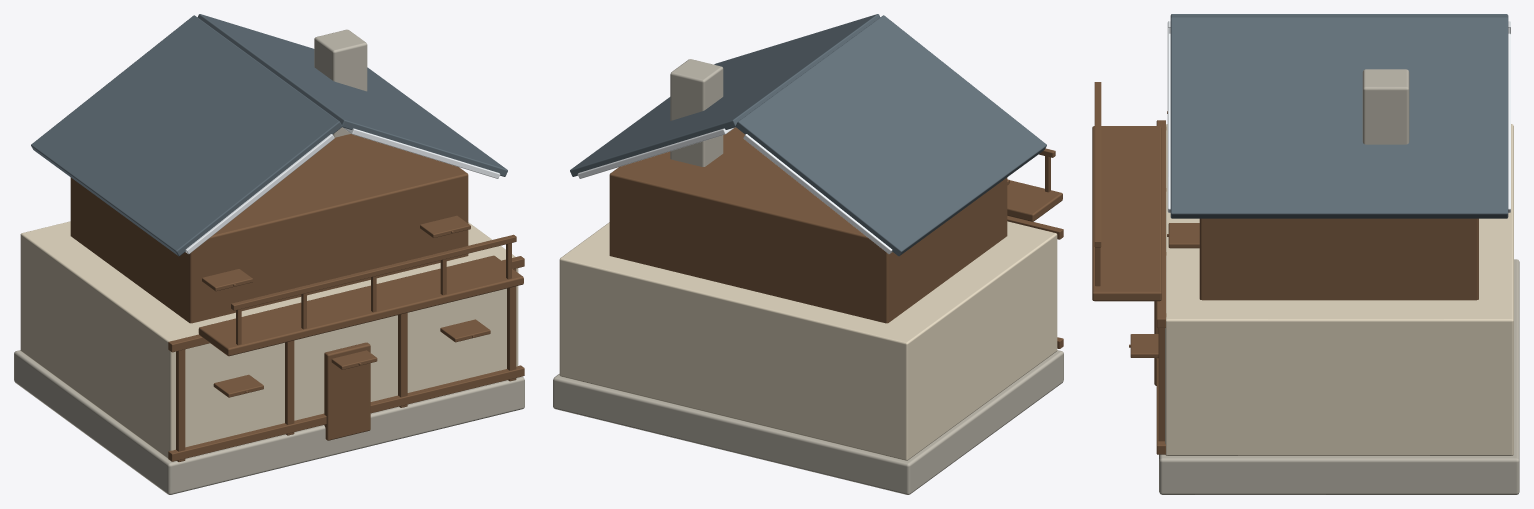
The model's file is Building_Alpine_Chalet_01.fbx.
3 views of the same model, side by side, from view 1: azimuth 30°, elevation 25°; view 2: azimuth 150°, elevation 25°; view 3: azimuth 270°, elevation 25° (orthographic). The views are drawn at different scales.
Parts seen in each view (by area): view 1: Chalet_LowerWalls, Chalet_Roof_L, Chalet_UpperWalls, Chalet_StoneBase, Chalet_Roof_R, Chalet_Balcony, Chalet_Door, Chalet_Beam_0.85, Chalet_Chimney, Chalet_BalconyRail, Chalet_SnowRoofL, Chalet_SnowRoofR (+10 smaller); view 2: Chalet_LowerWalls, Chalet_UpperWalls, Chalet_Roof_L, Chalet_StoneBase, Chalet_Roof_R, Chalet_Chimney, Chalet_Balcony, Chalet_SnowRoofL, Chalet_SnowRoofR; view 3: Chalet_Roof_R, Chalet_LowerWalls, Chalet_UpperWalls, Chalet_StoneBase, Chalet_Balcony, Chalet_Chimney, Chalet_Roof_L, Chalet_BalconyRail, Chalet_SnowRoofR, Chalet_Beam_3.25, Chalet_WindowUpper_2.5_Frame, Chalet_Timber_3.8 (+1 smaller).
Boxes of the visible parts, x1=… form: Chalet_LowerWalls: x1=20, y1=221, x2=518, y2=458; Chalet_Roof_L: x1=31, y1=15, x2=342, y2=256; Chalet_UpperWalls: x1=70, y1=134, x2=468, y2=323; Chalet_StoneBase: x1=14, y1=350, x2=524, y2=494; Chalet_Roof_R: x1=197, y1=14, x2=507, y2=176; Chalet_Balcony: x1=198, y1=255, x2=523, y2=356; Chalet_Door: x1=324, y1=342, x2=370, y2=440; Chalet_Beam_0.85: x1=168, y1=365, x2=524, y2=461; Chalet_Chimney: x1=314, y1=29, x2=367, y2=137; Chalet_BalconyRail: x1=231, y1=234, x2=516, y2=310; Chalet_SnowRoofL: x1=185, y1=134, x2=334, y2=254; Chalet_SnowRoofR: x1=343, y1=127, x2=500, y2=178; Chalet_LowerWalls: x1=559, y1=221, x2=1057, y2=460; Chalet_UpperWalls: x1=609, y1=127, x2=1007, y2=323; Chalet_Roof_L: x1=735, y1=15, x2=1046, y2=256; Chalet_StoneBase: x1=553, y1=350, x2=1063, y2=494; Chalet_Roof_R: x1=570, y1=14, x2=880, y2=176; Chalet_Chimney: x1=670, y1=59, x2=723, y2=166; Chalet_Balcony: x1=1007, y1=180, x2=1062, y2=221; Chalet_SnowRoofL: x1=743, y1=134, x2=892, y2=254; Chalet_SnowRoofR: x1=577, y1=127, x2=734, y2=178; Chalet_Roof_R: x1=1170, y1=17, x2=1508, y2=218; Chalet_LowerWalls: x1=1165, y1=124, x2=1513, y2=455; Chalet_UpperWalls: x1=1199, y1=218, x2=1478, y2=300; Chalet_StoneBase: x1=1159, y1=259, x2=1519, y2=494; Chalet_Balcony: x1=1092, y1=126, x2=1161, y2=301; Chalet_Chimney: x1=1362, y1=69, x2=1409, y2=144; Chalet_Roof_L: x1=1170, y1=14, x2=1508, y2=18; Chalet_BalconyRail: x1=1094, y1=82, x2=1101, y2=247; Chalet_SnowRoofR: x1=1167, y1=33, x2=1510, y2=212; Chalet_Beam_3.25: x1=1156, y1=120, x2=1165, y2=327; Chalet_WindowUpper_2.5_Frame: x1=1168, y1=223, x2=1199, y2=248; Chalet_Timber_3.8: x1=1158, y1=313, x2=1166, y2=441.
Bounding box in the file's own units: 820 × 720 × 735.
